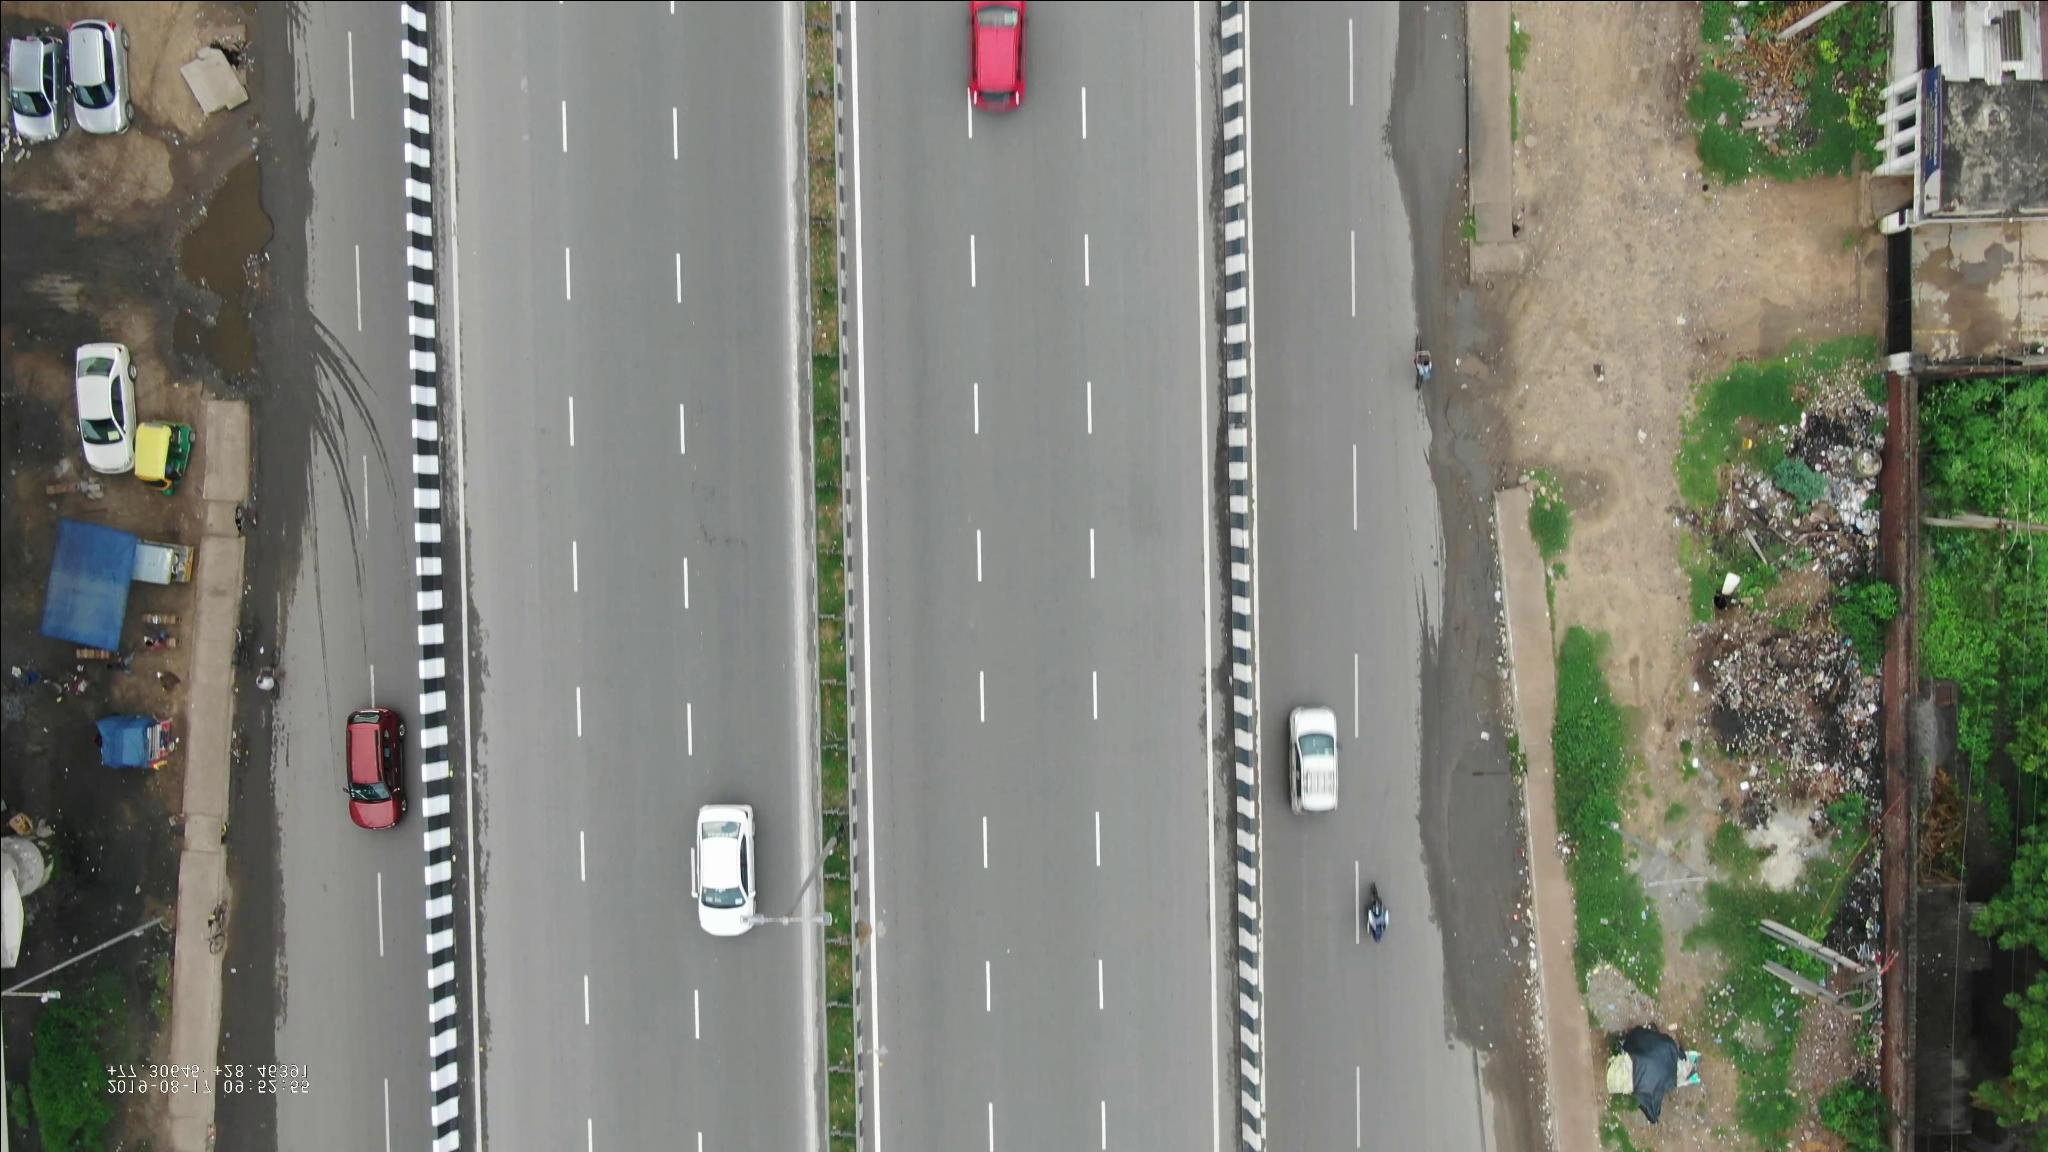Road_side_garbage: (1689, 407, 1886, 796), (1685, 32, 1817, 169)
Waterlogging: (156, 158, 290, 407), (1419, 710, 1529, 966), (1412, 172, 1494, 284)
